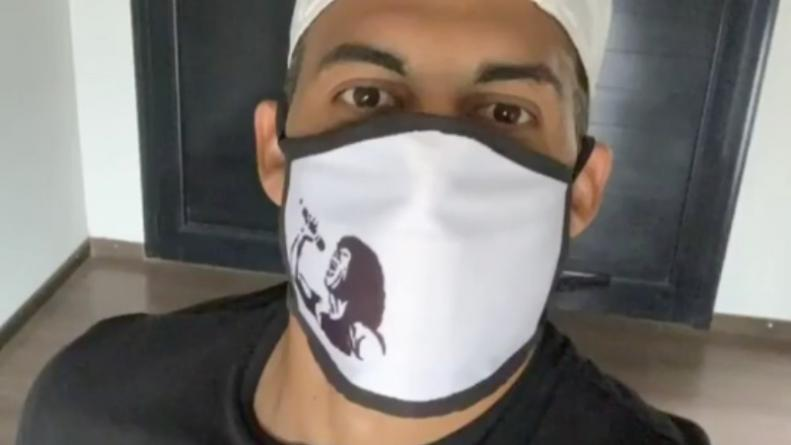barbijo: (260, 99, 600, 410)
